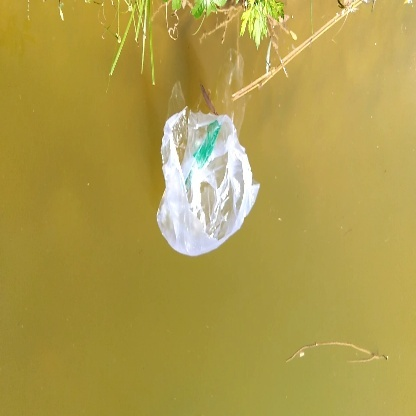branch: (226, 4, 377, 102)
plastic-bag: (152, 103, 259, 266)
